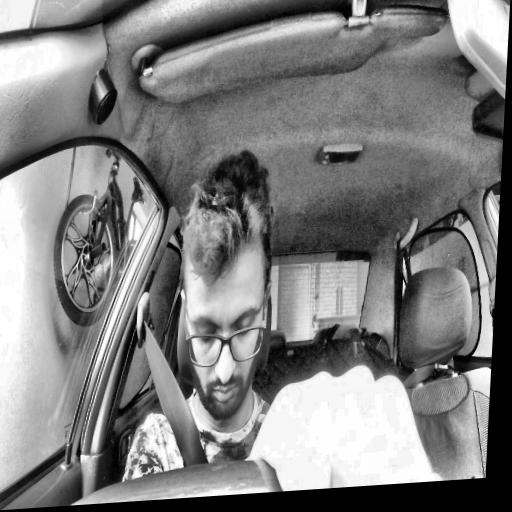drowsy: (172, 144, 279, 427)
